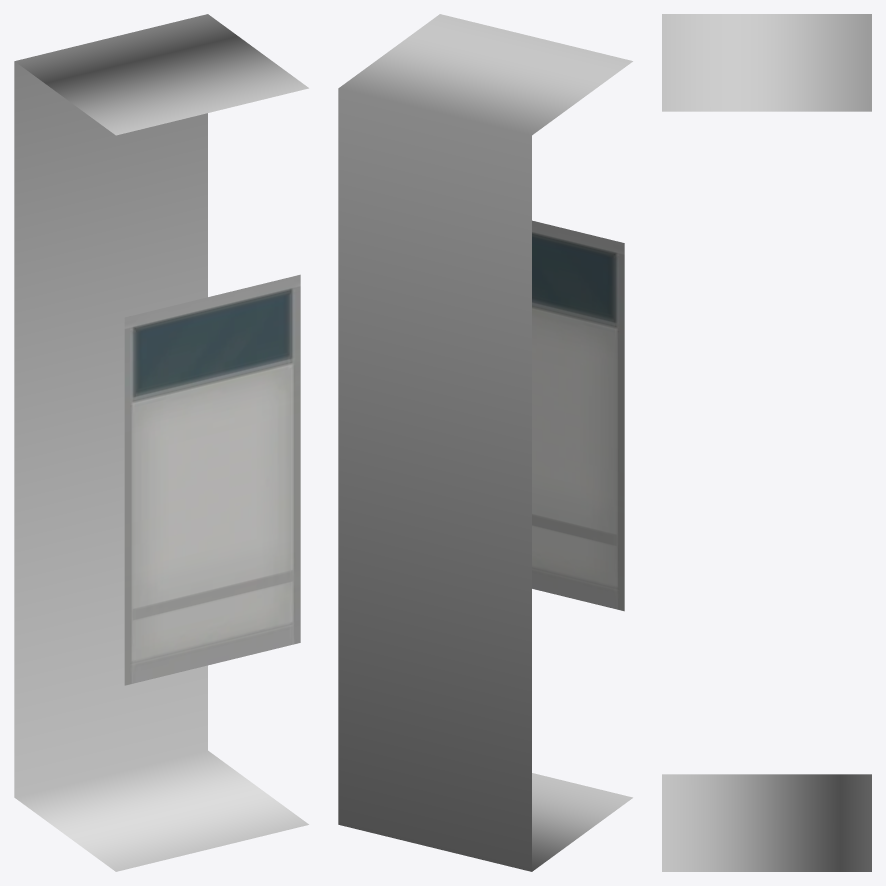
Rendered from wall.glb.
The picture shows the model from 3 angles, left to right: view 1: azimuth 30°, elevation 25°; view 2: azimuth 150°, elevation 25°; view 3: azimuth 270°, elevation 25°; orthographic projection. The views are drawn at different scales.
Parts seen in each view (by area): view 1: RoomSpWallSimplePanel00__RoomSpWallSimplePanel00Wall_node2, RoomSpWallSimplePanel00__RoomSpWallSimplePanel00Wall_node1; view 2: RoomSpWallSimplePanel00__RoomSpWallSimplePanel00Wall_node2, RoomSpWallSimplePanel00__RoomSpWallSimplePanel00Wall_node1; view 3: RoomSpWallSimplePanel00__RoomSpWallSimplePanel00Wall_node2.
Part boxes in pixels (x1,y1,x2,y2): RoomSpWallSimplePanel00__RoomSpWallSimplePanel00Wall_node2: (14, 14, 308, 871); RoomSpWallSimplePanel00__RoomSpWallSimplePanel00Wall_node1: (124, 274, 300, 685); RoomSpWallSimplePanel00__RoomSpWallSimplePanel00Wall_node2: (338, 14, 632, 871); RoomSpWallSimplePanel00__RoomSpWallSimplePanel00Wall_node1: (532, 220, 624, 611); RoomSpWallSimplePanel00__RoomSpWallSimplePanel00Wall_node2: (662, 14, 871, 871).
Bounding box in the file's own units: 22 × 80 × 20.
2 materials, 1 textured.
